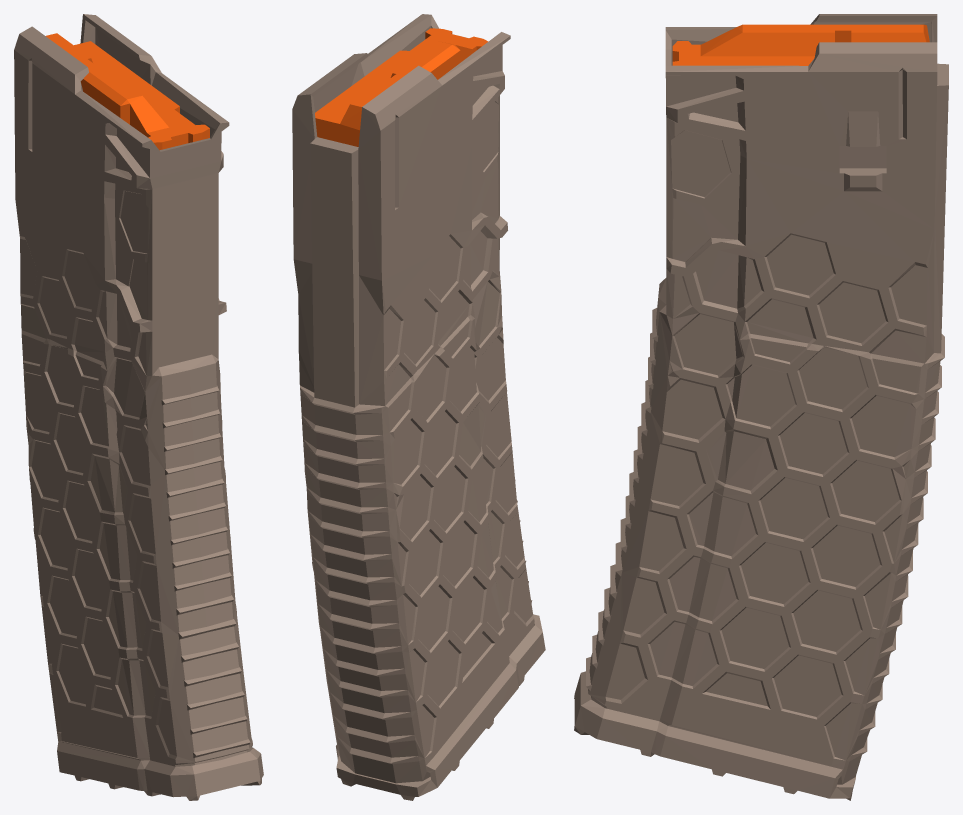
File: mag_hex30.glb
The picture shows the model from 3 angles, left to right: view 1: azimuth 30°, elevation 25°; view 2: azimuth 150°, elevation 25°; view 3: azimuth 270°, elevation 25°; orthographic projection. The views are drawn at different scales.
Parts seen in each view (by area): view 1: O_mag_hex30__C987, O_mag_hex30__Cf61; view 2: O_mag_hex30__C987, O_mag_hex30__Cf61; view 3: O_mag_hex30__C987, O_mag_hex30__Cf61.
Part boxes in pixels (left/top/right/bottom): O_mag_hex30__C987: left=14, top=14, right=263, bottom=800; O_mag_hex30__Cf61: left=46, top=33, right=209, bottom=150; O_mag_hex30__C987: left=292, top=14, right=545, bottom=800; O_mag_hex30__Cf61: left=315, top=28, right=488, bottom=146; O_mag_hex30__C987: left=574, top=14, right=948, bottom=800; O_mag_hex30__Cf61: left=672, top=24, right=929, bottom=65.
Size of the model in its own units: 0.0741 by 0.5149 by 0.232.
